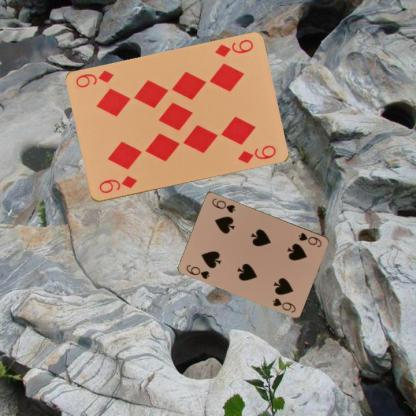6s: (296, 230, 323, 248), (184, 262, 211, 280)
9d: (96, 173, 138, 195), (212, 37, 254, 59)
